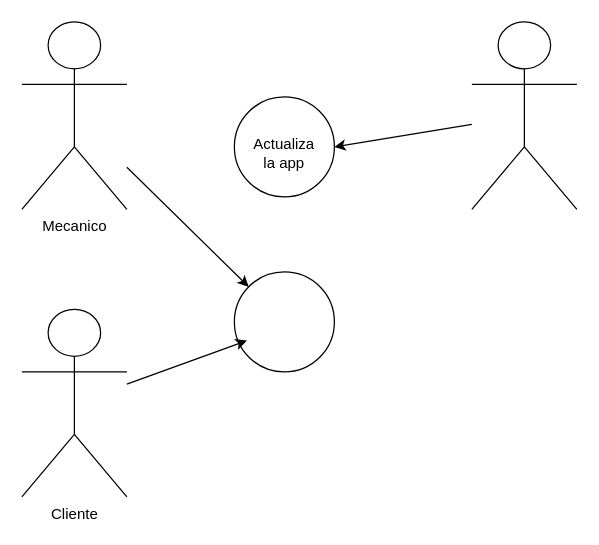
Image size: 599x545. Some labels were removed from this diagram. The shapes that lost their labels are listed below. From the top down, each one's centre as x and y in pixels, then its label:
At point (524, 115): "Programador".
At point (283, 321): "Quien usa la app?".
